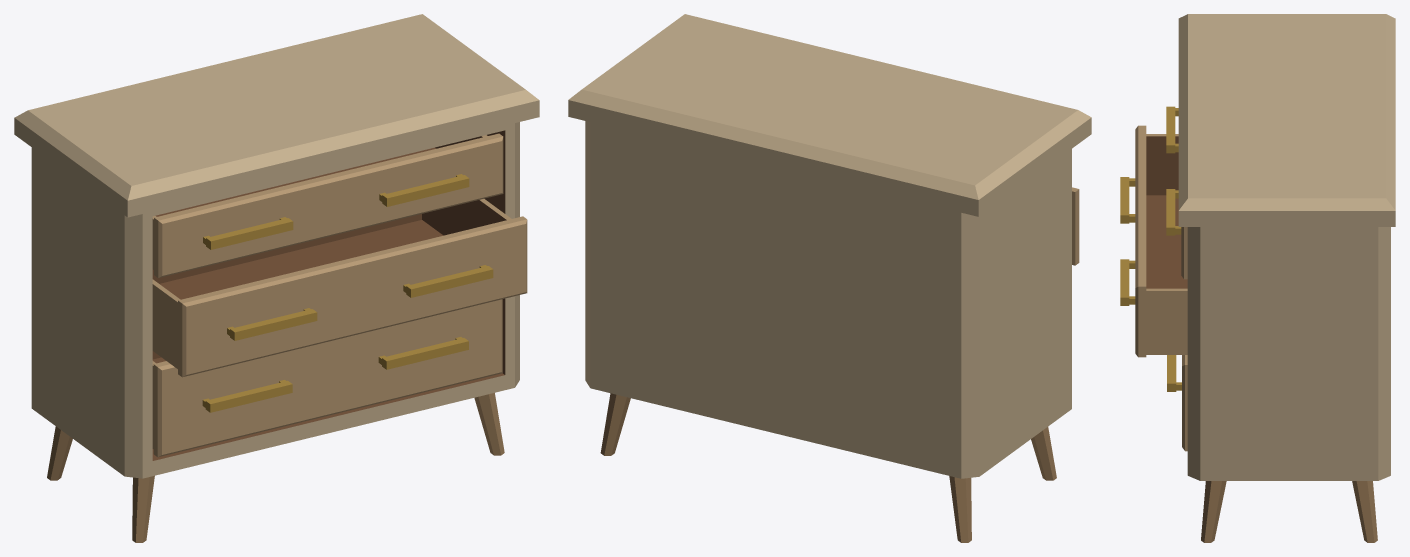
File: chest-of-drawers-cbe3e7.glb
3 views of the same model, side by side, from view 1: azimuth 30°, elevation 25°; view 2: azimuth 150°, elevation 25°; view 3: azimuth 270°, elevation 25° (orthographic). The views are drawn at different scales.
Visible parts, largest first — view 1: chest-of-drawers, drawer-2, drawer-3, drawer-1; view 2: chest-of-drawers, drawer-2; view 3: chest-of-drawers, drawer-2, drawer-1, drawer-3.
Part boxes in pixels (bbox=[...]): chest-of-drawers: bbox=[14, 14, 539, 542]; drawer-2: bbox=[152, 199, 527, 377]; drawer-3: bbox=[152, 299, 502, 457]; drawer-1: bbox=[152, 133, 503, 277]; chest-of-drawers: bbox=[568, 14, 1091, 542]; drawer-2: bbox=[1072, 187, 1079, 265]; chest-of-drawers: bbox=[1178, 14, 1395, 542]; drawer-2: bbox=[1120, 125, 1187, 357]; drawer-1: bbox=[1166, 106, 1187, 279]; drawer-3: bbox=[1167, 355, 1187, 451].
Size of the model in its own units: 1 by 0.85 by 0.605.
